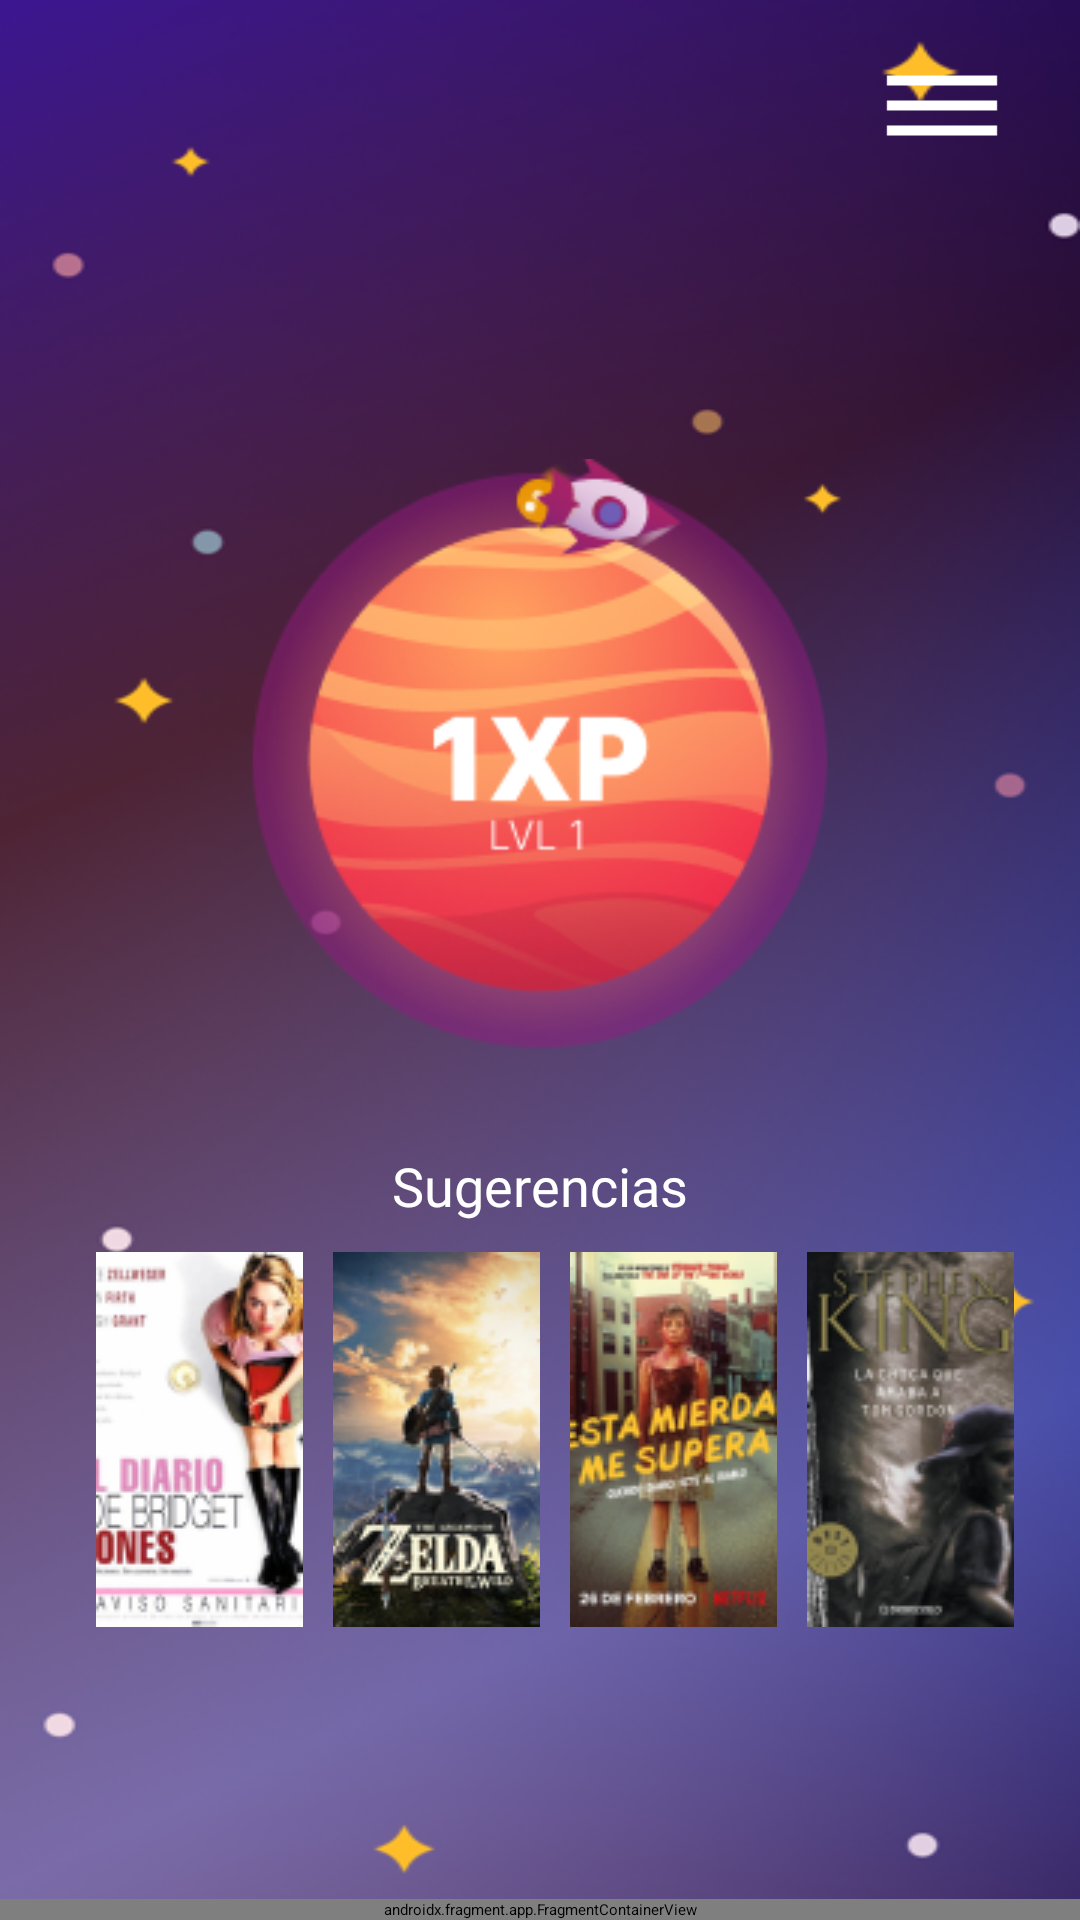

Screen size 1080x1920. Icon name, then its box in pixels as (x1, y1, x2, y2):
menu: (883, 48, 998, 136)
